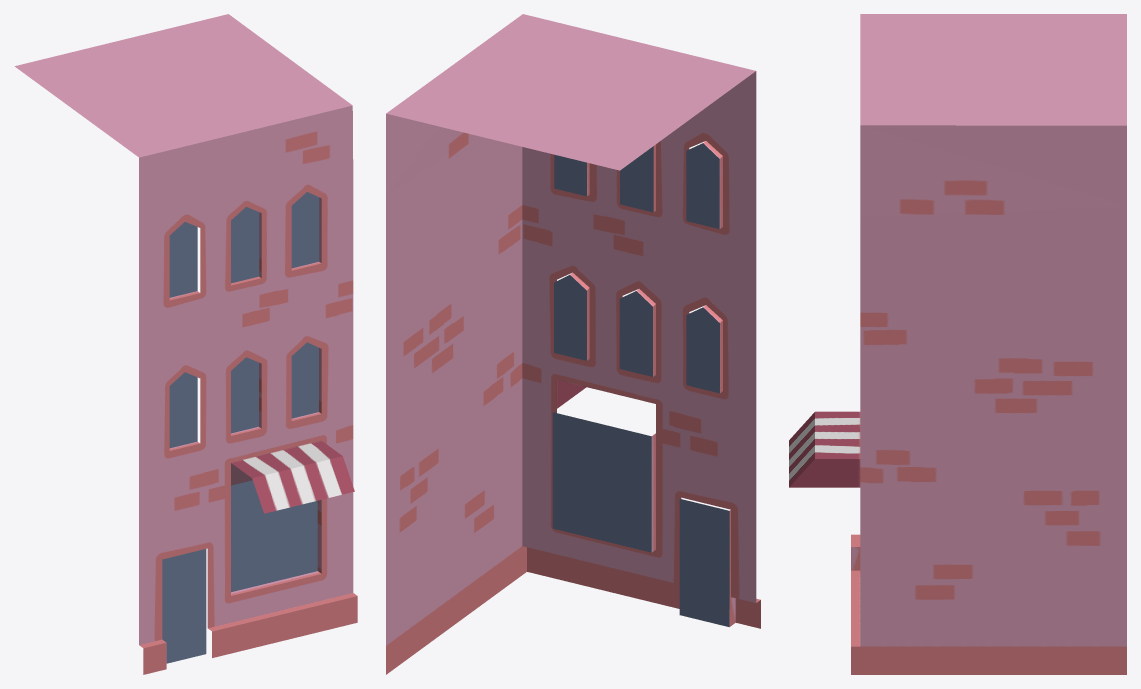
The model's file is Building_R_1_Main.fbx.
3 renders of one model, left to right at view 1: azimuth 30°, elevation 25°; view 2: azimuth 150°, elevation 25°; view 3: azimuth 270°, elevation 25°, orthographic. The views are drawn at different scales.
Visible parts, largest first — view 1: Building_R_1; view 2: Building_R_1; view 3: Building_R_1.
Boxes of the visible parts, left/top/right/bottom form: Building_R_1: left=14, top=14, right=357, bottom=674; Building_R_1: left=386, top=14, right=760, bottom=674; Building_R_1: left=789, top=14, right=1126, bottom=674.
Size of the model in its own units: 379 by 868 by 484.
Materials: 1 (1 with a texture image).
